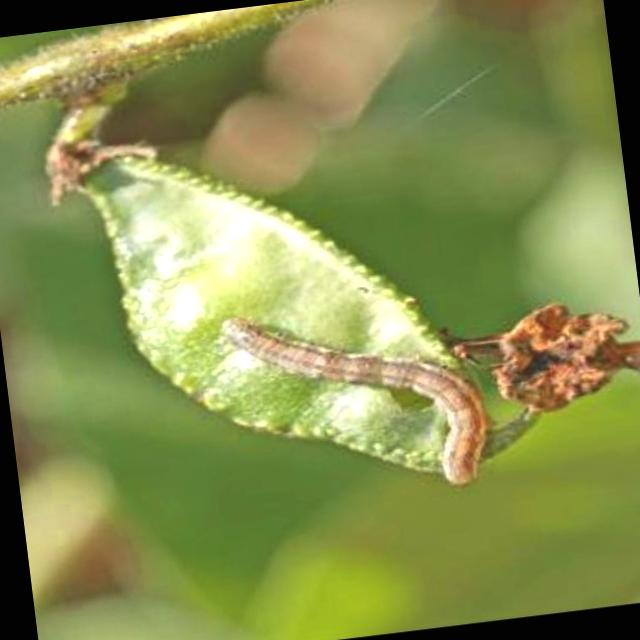Cotton bollworm: (182, 228, 529, 546)
